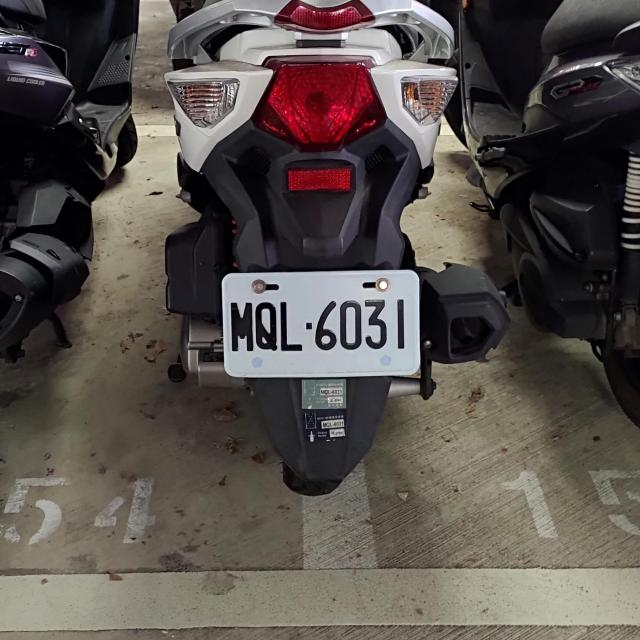W: (220, 266, 419, 378)
